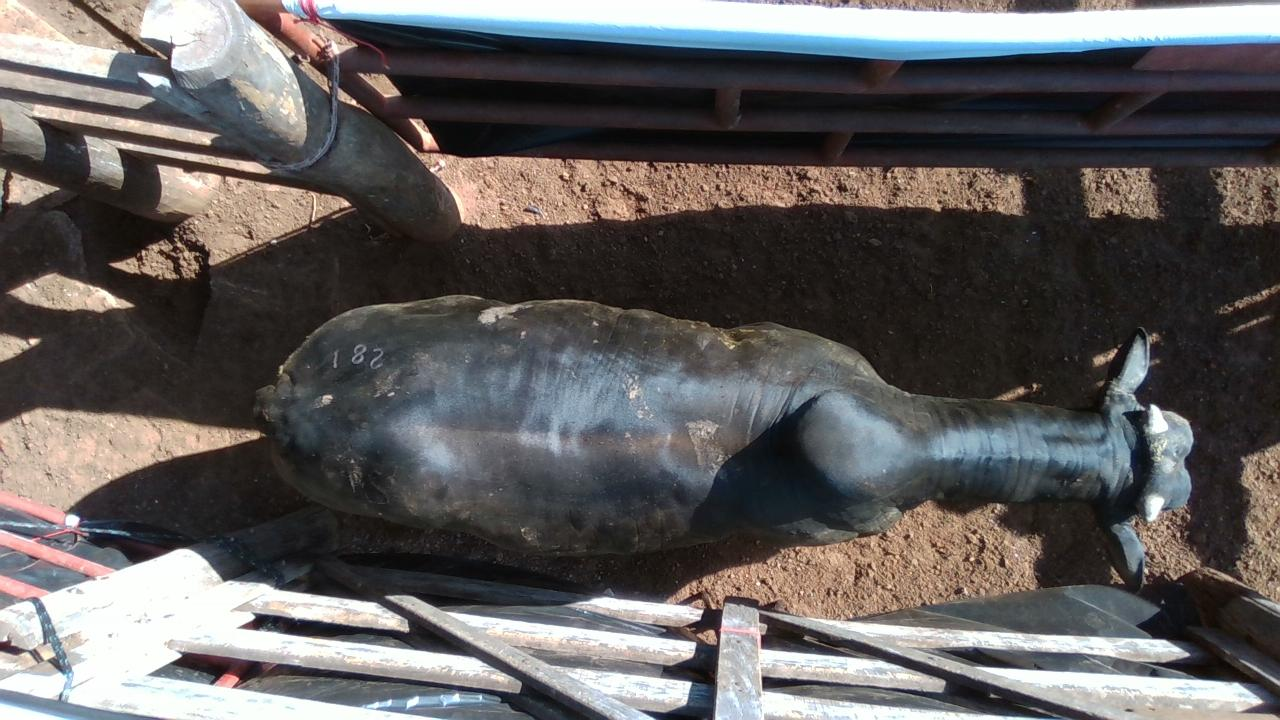cattle: (251, 292, 1195, 590)
